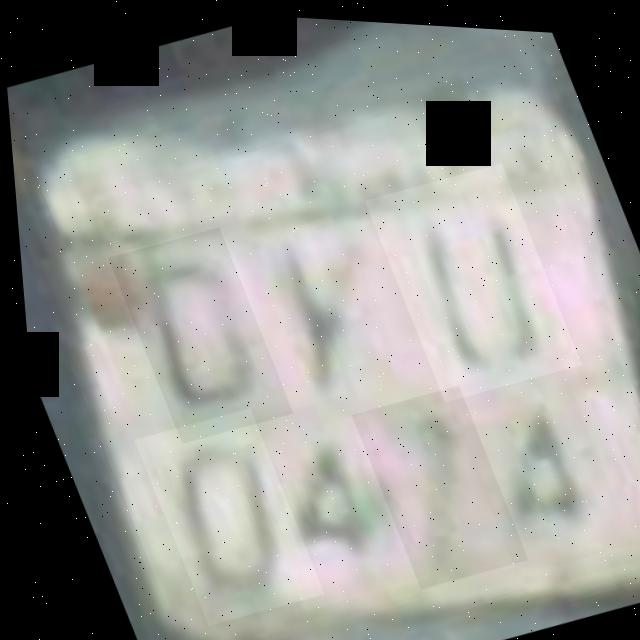0: (125, 400, 317, 629)
4: (433, 342, 627, 576), (238, 383, 420, 605)
7: (343, 375, 522, 590)
O: (102, 219, 289, 447)
U: (359, 151, 579, 403)
Y: (218, 187, 422, 430)
